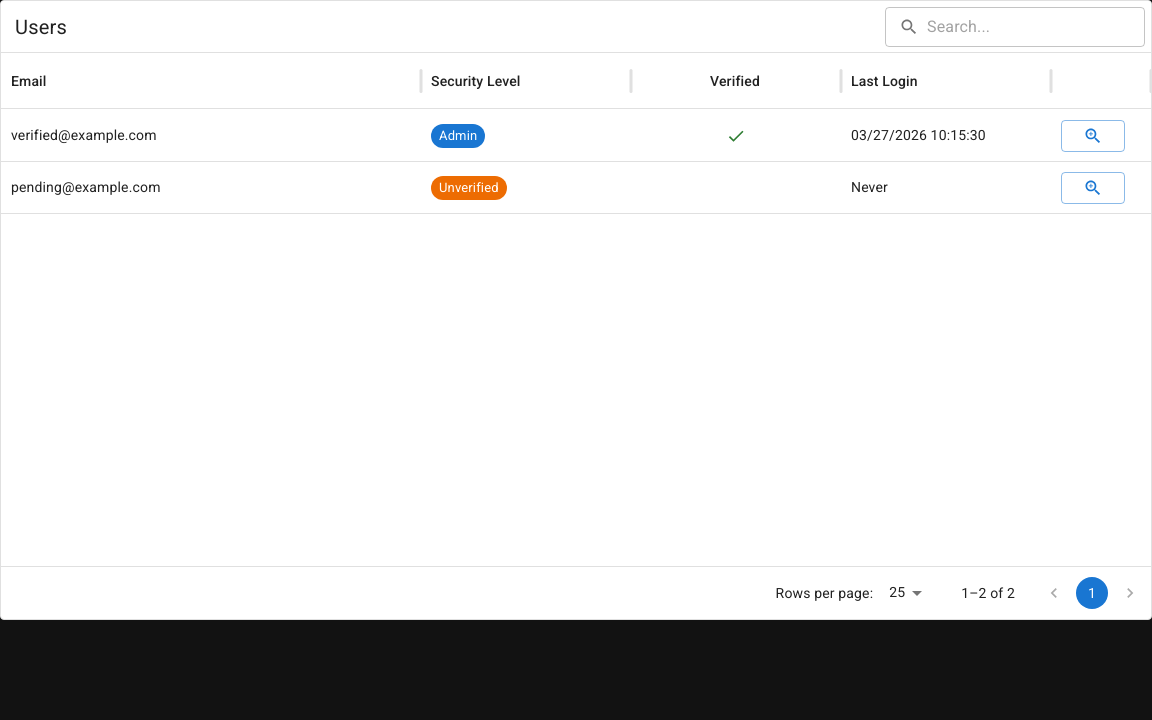
<UsersPage /> › Should show the formatted last login for a verified user and close
This screenshot has width=1152, height=720.
Expected: the text "verified@example.com" is shown, [11,127,157,143]
Click the button without text in the row of "verified@example.com".
click(1093, 136)  # box [1061,120,1125,152]
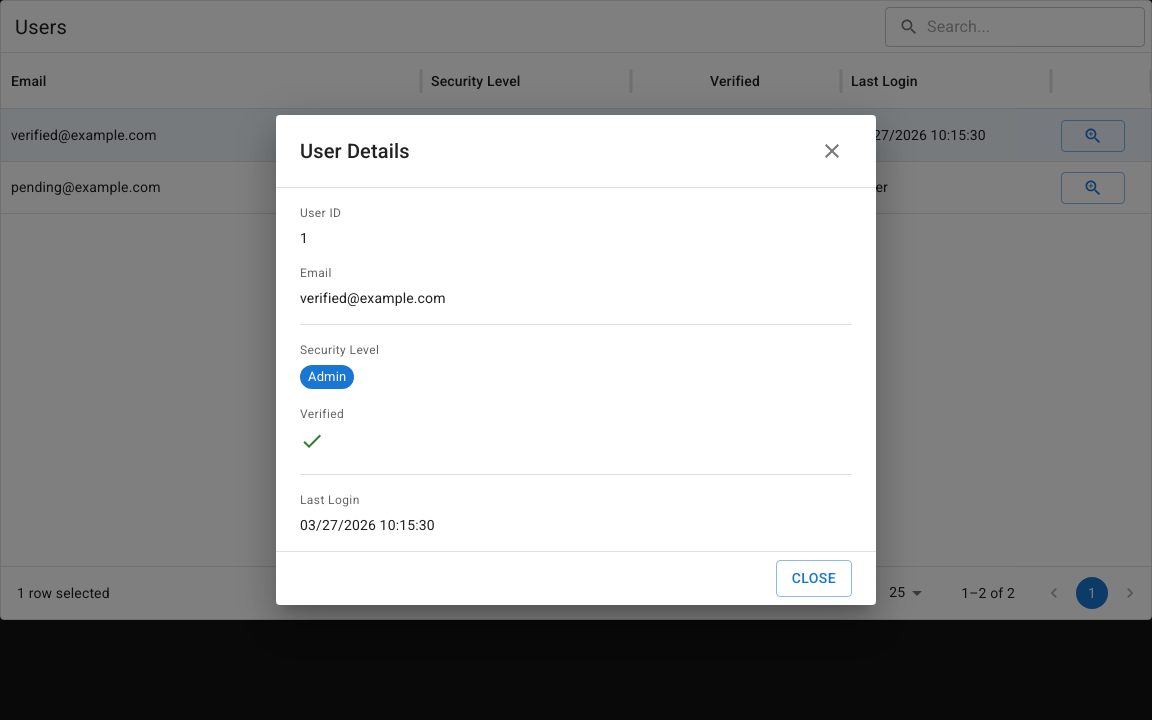
Result: the text "03/27/2026 10:15:30" is shown at [300,517,435,533]
Result: the icon with test id "CheckIcon" below "User ID" is shown at [300,429,324,453]
Click the button "Close".
click(814, 578)  # box [776,560,852,596]
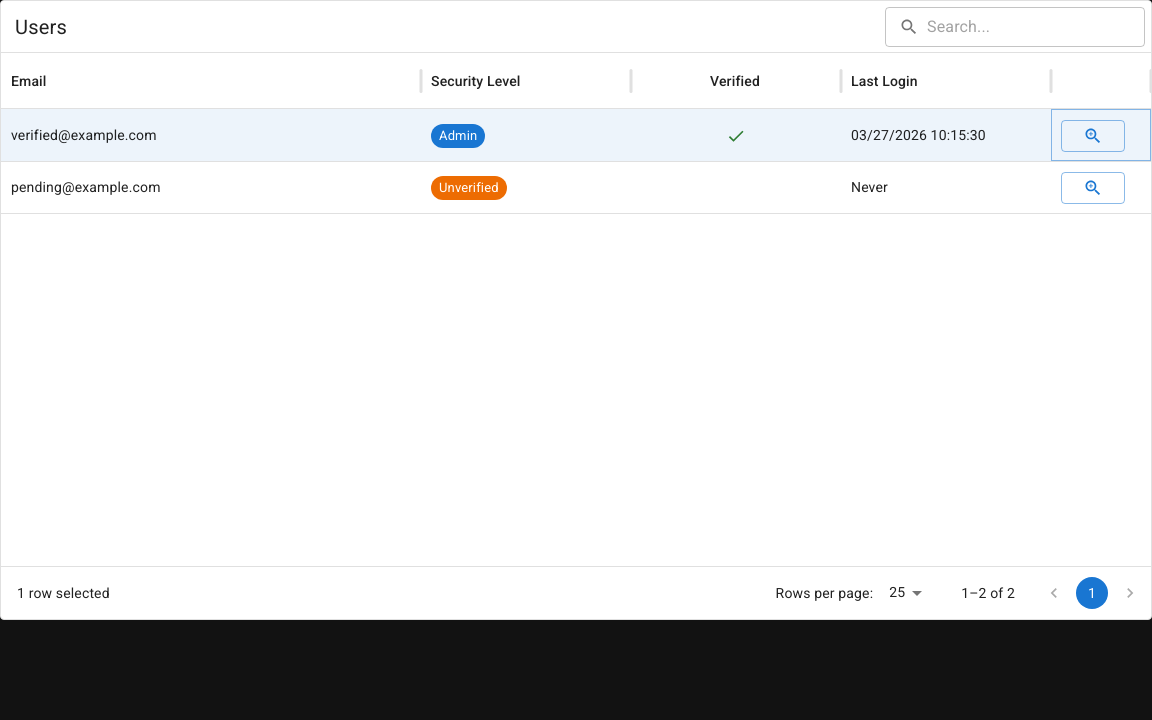
Result: the dialog is gone
